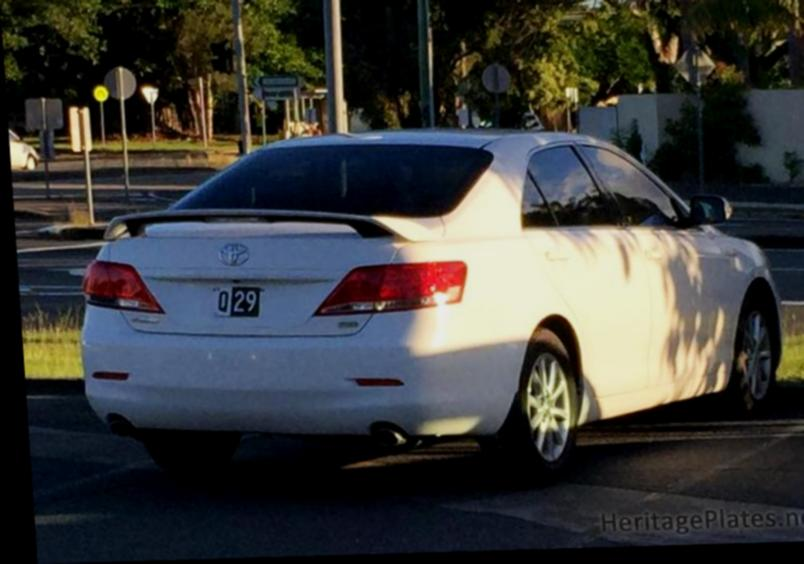License_Plate: (203, 276, 270, 328)
